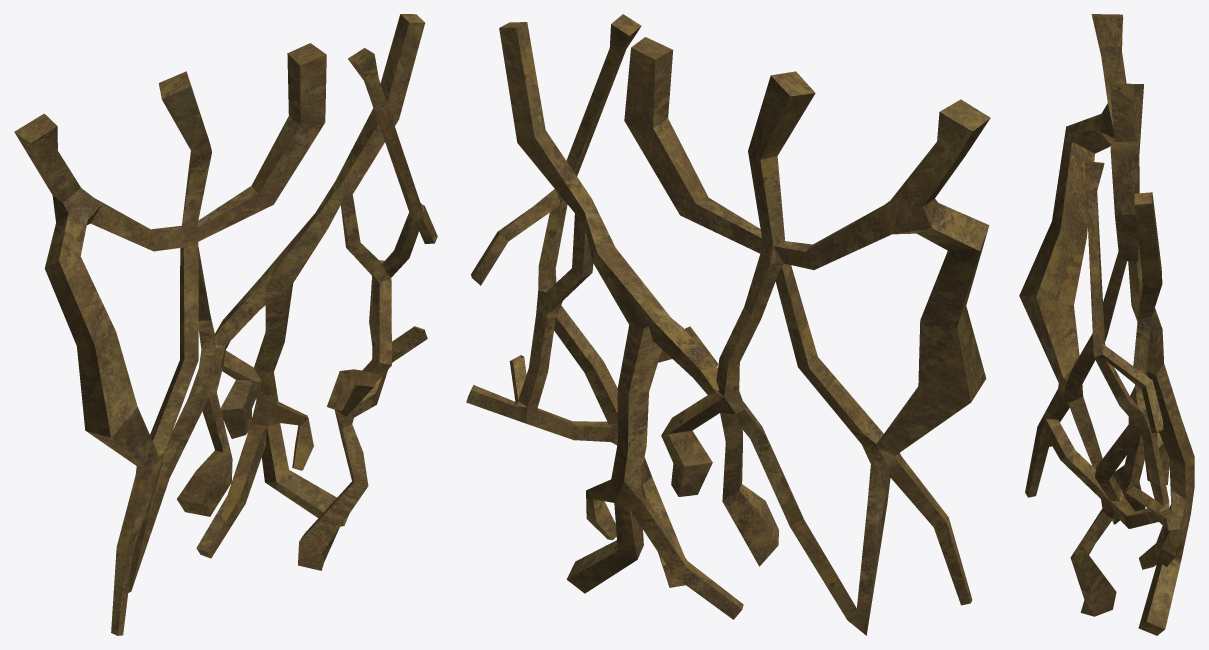
The model's file is mg_12__fence_2.fbx.
3 renders of one model, left to right at view 1: azimuth 30°, elevation 25°; view 2: azimuth 150°, elevation 25°; view 3: azimuth 270°, elevation 25°, orthographic. The views are drawn at different scales.
Parts seen in each view (by area): view 1: mg_12__fence_2; view 2: mg_12__fence_2; view 3: mg_12__fence_2.
Part boxes in pixels (x1=…): mg_12__fence_2: x1=14, y1=14, x2=437, y2=635; mg_12__fence_2: x1=466, y1=14, x2=990, y2=635; mg_12__fence_2: x1=1019, y1=14, x2=1194, y2=635.
Size of the model in its own units: 149 by 163 by 54.09.
